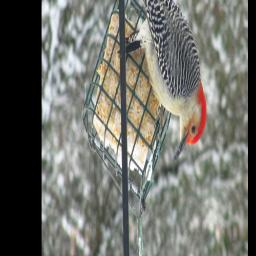Woodpecker: (122, 0, 207, 157)
